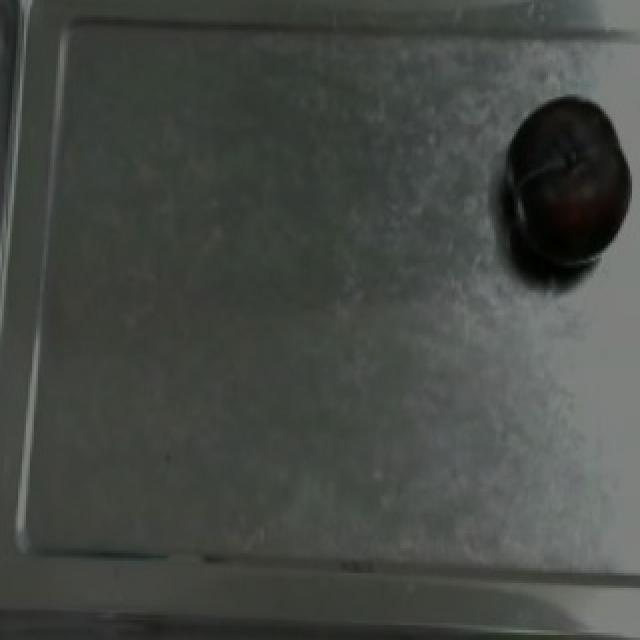Fruit: (494, 80, 640, 290)
